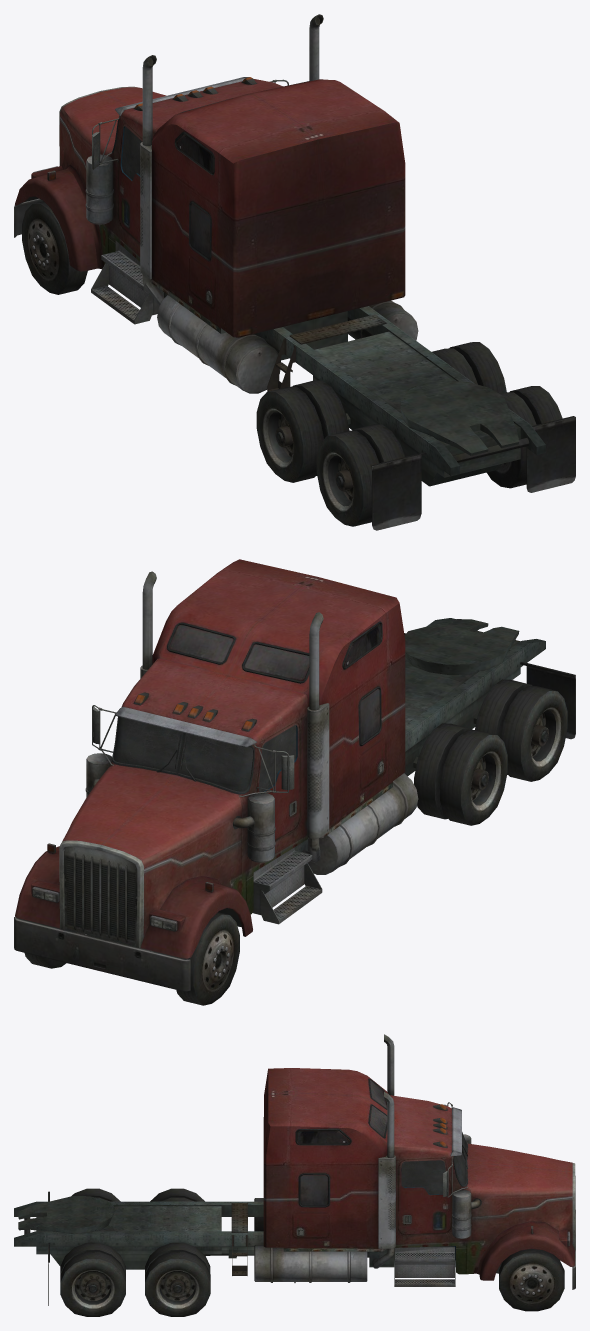
Rendered from caminhao_generico_kenworth.glb.
The picture shows the model from 3 angles, top to bottom: view 1: azimuth 30°, elevation 25°; view 2: azimuth 150°, elevation 25°; view 3: azimuth 270°, elevation 25°; orthographic projection. The views are drawn at different scales.
Parts seen in each view (by area): view 1: Object_2, Object_4; view 2: Object_2, Object_4; view 3: Object_2, Object_4.
Boxes of the visible parts, <box> form: Object_2: <box>14,14,575,530</box>; Object_4: <box>122,126,141,179</box>; Object_2: <box>14,559,575,1005</box>; Object_4: <box>113,717,296,792</box>; Object_2: <box>14,1034,575,1316</box>; Object_4: <box>401,1132,466,1194</box>.
Bounding box in the file's own units: 0.7626 × 1.08 × 2.5.
Materials: 3 (3 with a texture image).
